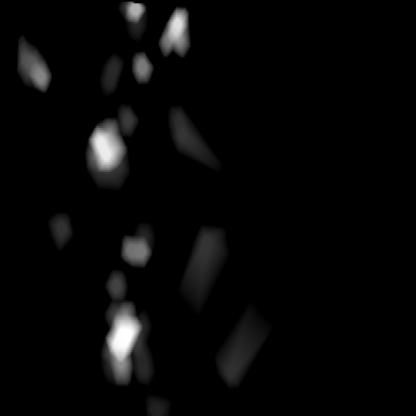fingers: (100, 303, 141, 371)
palm: (88, 0, 188, 172)
